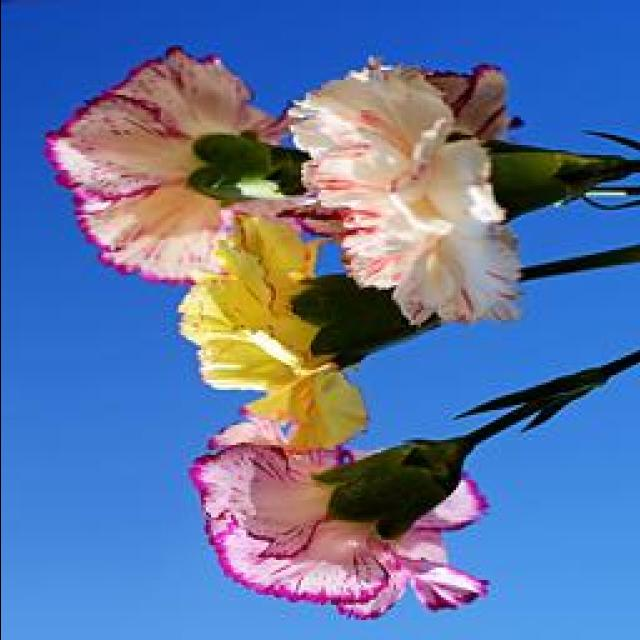carnation: (268, 40, 552, 338)
